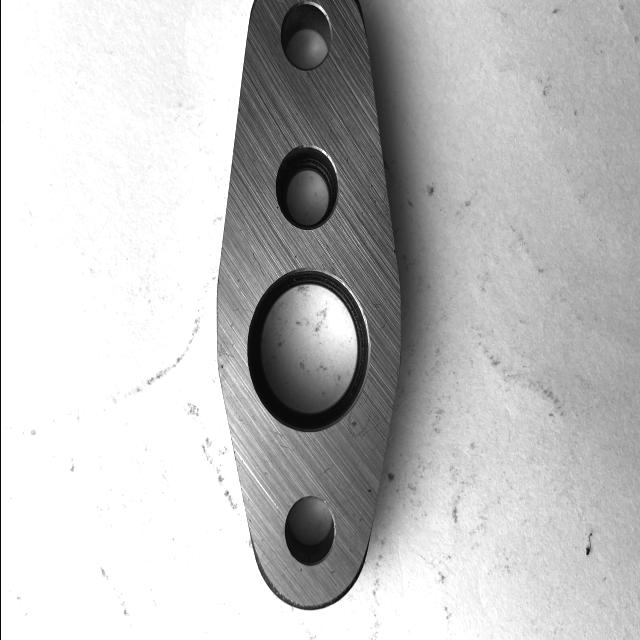chap: (219, 363, 225, 370)
lines: (344, 414, 384, 440), (268, 429, 291, 452), (252, 253, 266, 276)
